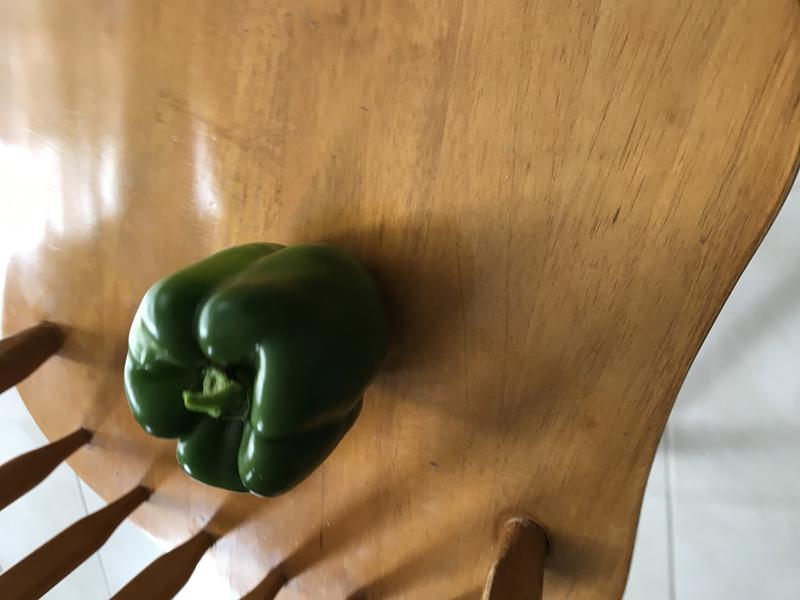green_pepper: (101, 230, 397, 506)
